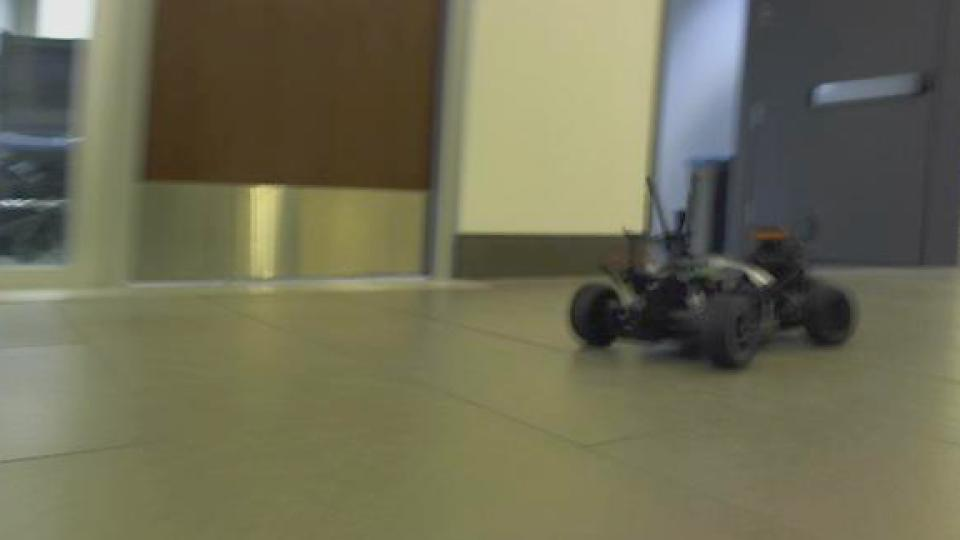car: (563, 172, 860, 371)
